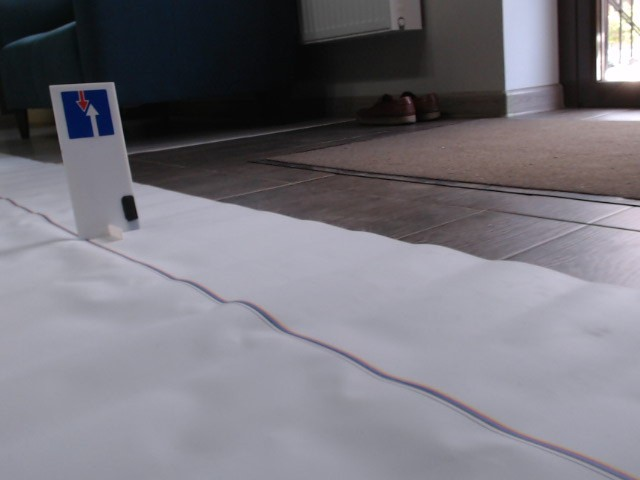priority_movement: (57, 88, 118, 140)
